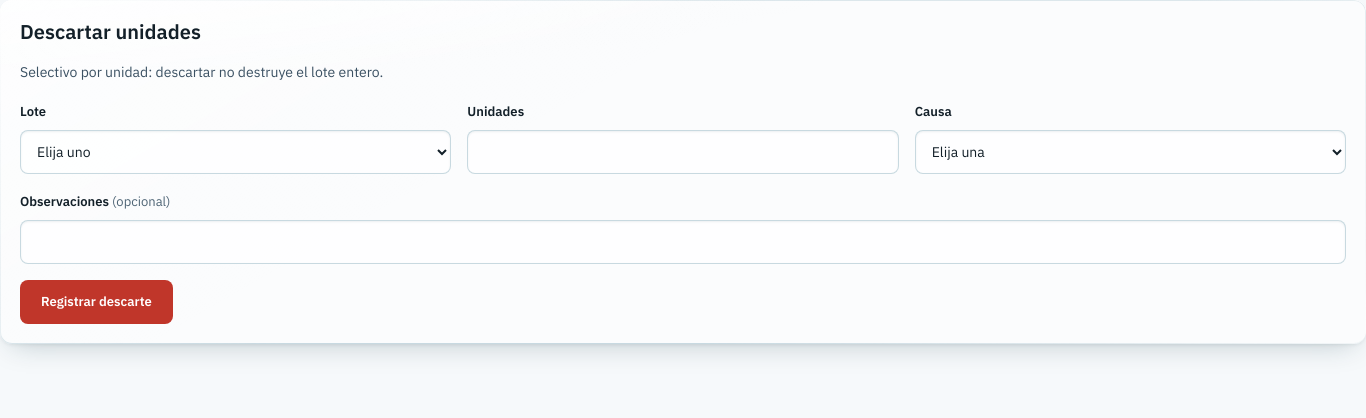
DescarteDeLote — la causa decide qué se pide › volver a otra causa devuelve el campo opcional
The width and height of the screenshot is (1366, 418).
Select "Otro" in the dropdown labelled "Causa" at (1130, 152), box [915, 130, 1346, 174]
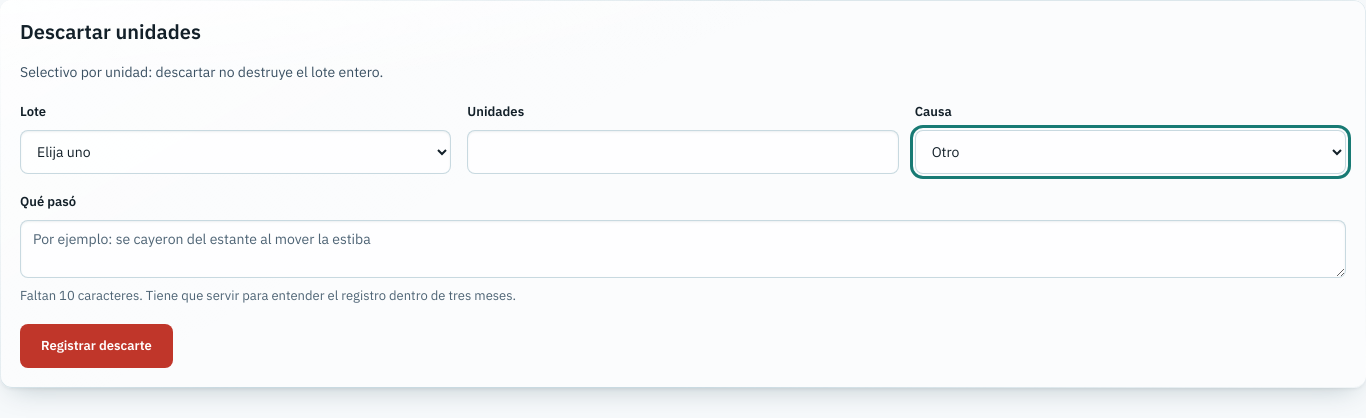
Select "Vencido" in the dropdown labelled "Causa" at (1130, 152), box [915, 130, 1346, 174]
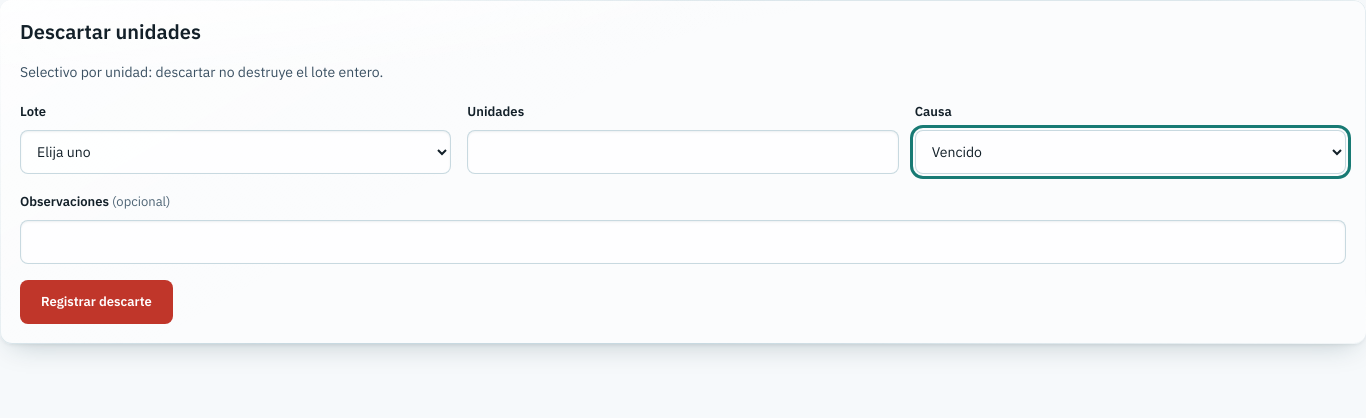
Check: the text "Qué pasó" is gone
